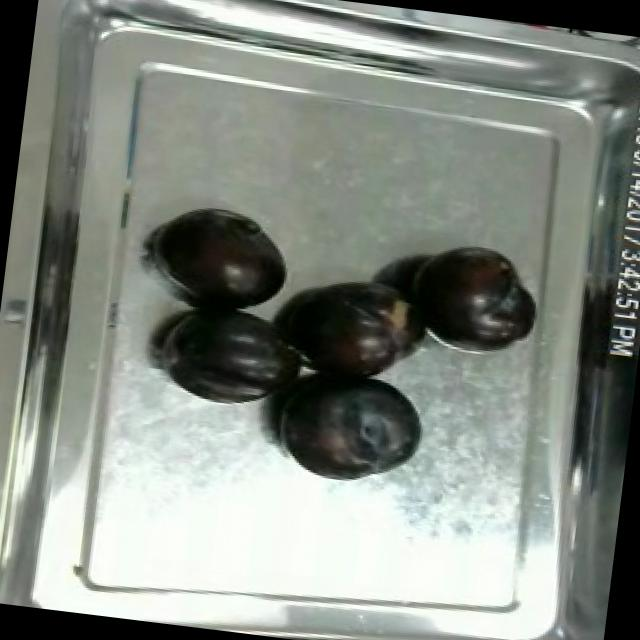Fruit: (262, 358, 436, 492), (392, 234, 544, 358), (272, 264, 422, 389), (150, 204, 300, 322), (158, 302, 312, 412)
